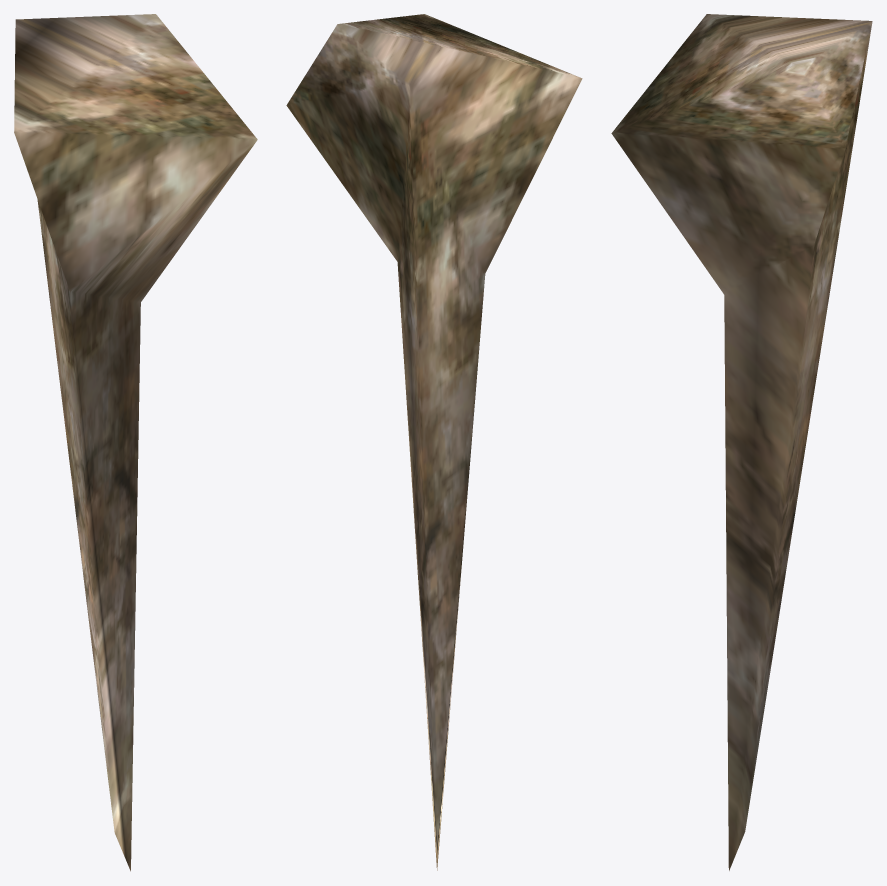
The model's file is thm_all_cave_stalagtite_b2_l2.fbx.
The picture shows the model from 3 angles, left to right: view 1: azimuth 30°, elevation 25°; view 2: azimuth 150°, elevation 25°; view 3: azimuth 270°, elevation 25°; orthographic projection. The views are drawn at different scales.
Visible parts, largest first — view 1: mesh_node; view 2: mesh_node; view 3: mesh_node.
Part boxes in pixels (box(x1,y1,x2,y2)): mesh_node: box(14, 14, 257, 871); mesh_node: box(286, 14, 582, 870); mesh_node: box(611, 14, 872, 870).
Size of the model in its own units: 1.02 by 3.74 by 1.06.
